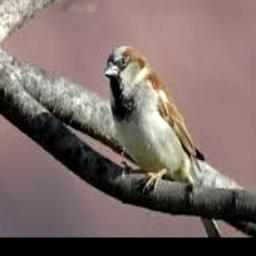Sparrow: (104, 45, 222, 238)
